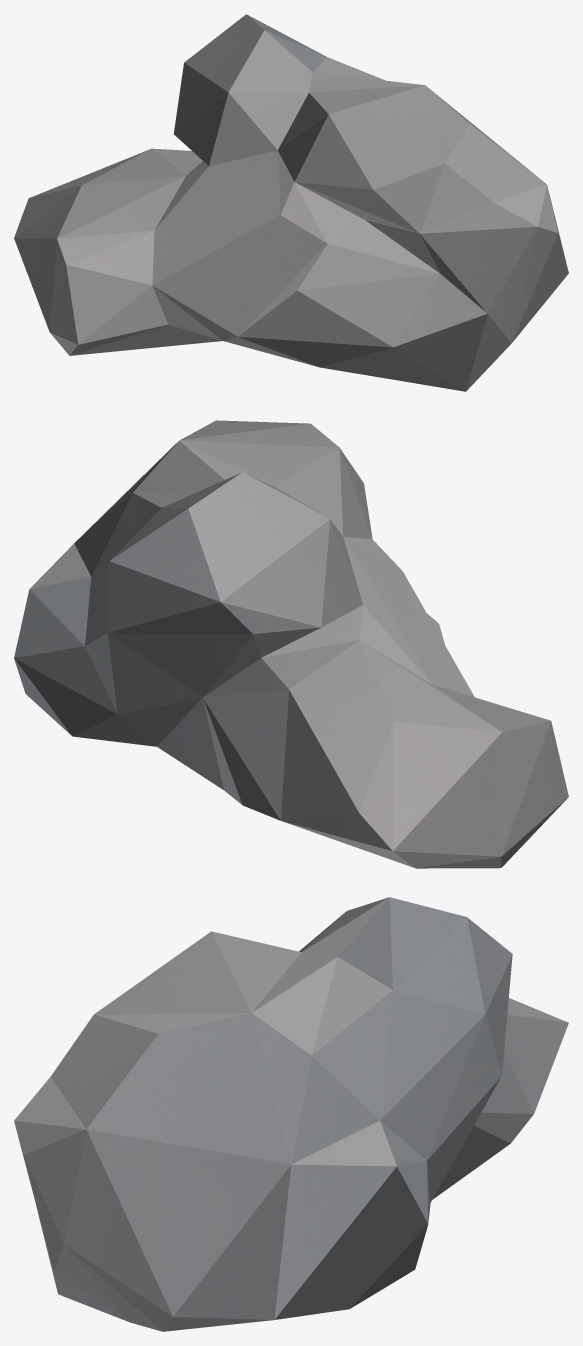
Rendered from Rock_Big_3.fbx.
The picture shows the model from 3 angles, top to bottom: view 1: azimuth 30°, elevation 25°; view 2: azimuth 150°, elevation 25°; view 3: azimuth 270°, elevation 25°; orthographic projection. The views are drawn at different scales.
Parts seen in each view (by area): view 1: Group39135; view 2: Group39135; view 3: Group39135.
Boxes of the visible parts, <box> form: Group39135: <box>14,14,568,391</box>; Group39135: <box>14,420,568,868</box>; Group39135: <box>14,897,568,1331</box>.
Bounding box in the file's own units: 669 × 411 × 572.
